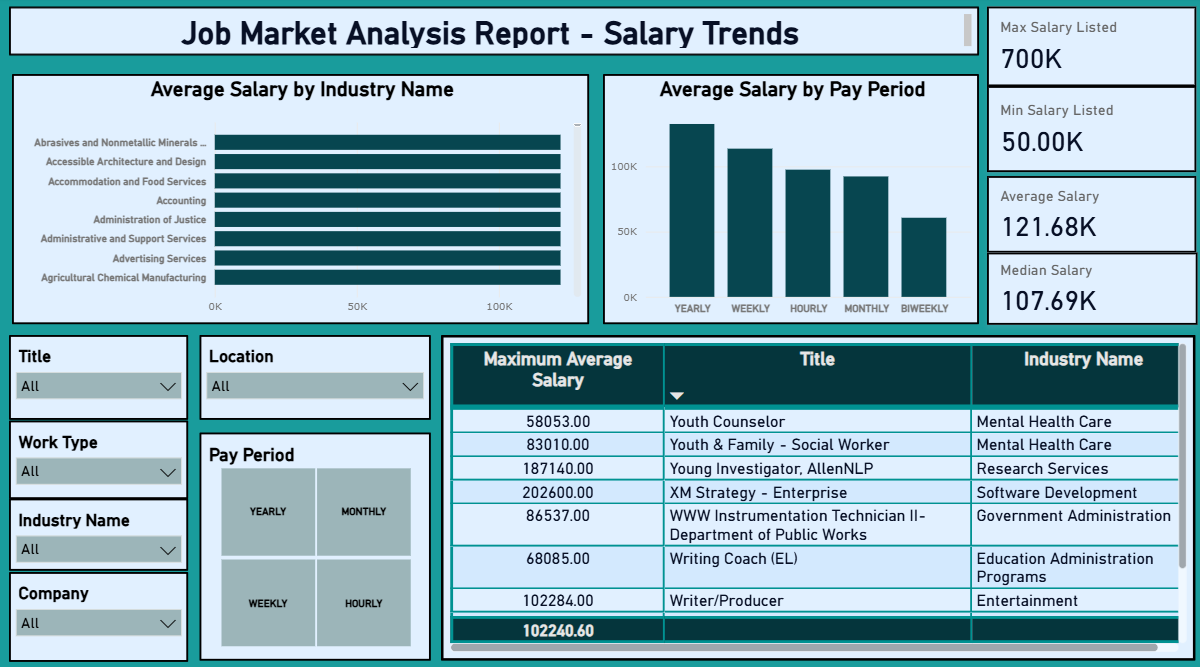

The page's visual inventory and layout, read from the dashboard file:
{"tool":"powerbi","page":{"name":"Salary Trends","canvas":[1280,720],"ordinal":1},"visuals":[{"type":"textbox","box":[10,11.7,1028.3,51.7],"z":0},{"type":"cardVisual","fields":{"Data":["postings.Average Salary"]},"box":[1047.1,190.2,222.2,81.5],"z":1000},{"type":"cardVisual","fields":{"Data":["postings.Median Salary"]},"box":[1046.7,271.7,223.3,76.7],"z":2000},{"type":"cardVisual","fields":{"Data":["postings.Max Salary Listed"]},"box":[1047.1,11.2,222.2,84.7],"z":3000},{"type":"cardVisual","fields":{"Data":["postings.Min Salary Listed"]},"box":[1047.1,95.9,222.2,91.1],"z":4000},{"type":"barChart","title":"Average Salary by Industry Name","fields":{"Y":["postings.Average Salary"],"Category":["industries.industry_name"]},"box":[13.3,83.3,611.7,265],"z":5000},{"type":"clusteredColumnChart","title":"Average Salary by Pay Period","fields":{"Category":["postings.pay_period"],"Y":["postings.Average Salary"]},"box":[640,83.3,398.3,265],"z":6000},{"type":"slicer","fields":{"Values":["postings.title"]},"box":[10,360,190,90],"z":7000},{"type":"slicer","fields":{"Values":["postings.location"]},"box":[211.7,360,245,90],"z":8000},{"type":"slicer","fields":{"Values":["postings.formatted_work_type"]},"box":[10,450,190,83.3],"z":9000},{"type":"slicer","fields":{"Values":["postings.company_name"]},"box":[10,610,190,95],"z":10000},{"type":"slicer","fields":{"Values":["postings.pay_period"]},"box":[211.7,463.3,245,241.7],"z":11000},{"type":"tableEx","fields":{"Values":["Avg(postings.max_salary)","postings.title","industries.industry_name"]},"box":[468.3,360,800,345],"z":12000},{"type":"slicer","fields":{"Values":["industries.industry_name"]},"box":[10,533.3,190,76.7],"z":13000}]}

Visuals, with their boxes in screenshot pixels (x1, y1, x2, y2), scaled from the page's 1280x720 canvas onto the 1200x667 screenshot:
textbox: {"x1": 9, "y1": 11, "x2": 973, "y2": 59}
cardVisual - postings.Average Salary: {"x1": 982, "y1": 176, "x2": 1190, "y2": 252}
cardVisual - postings.Median Salary: {"x1": 981, "y1": 252, "x2": 1191, "y2": 323}
cardVisual - postings.Max Salary Listed: {"x1": 982, "y1": 10, "x2": 1190, "y2": 89}
cardVisual - postings.Min Salary Listed: {"x1": 982, "y1": 89, "x2": 1190, "y2": 173}
"Average Salary by Industry Name" barChart: {"x1": 12, "y1": 77, "x2": 586, "y2": 323}
"Average Salary by Pay Period" clusteredColumnChart: {"x1": 600, "y1": 77, "x2": 973, "y2": 323}
slicer - postings.title: {"x1": 9, "y1": 334, "x2": 188, "y2": 417}
slicer - postings.location: {"x1": 198, "y1": 334, "x2": 428, "y2": 417}
slicer - postings.formatted_work_type: {"x1": 9, "y1": 417, "x2": 188, "y2": 494}
slicer - postings.company_name: {"x1": 9, "y1": 565, "x2": 188, "y2": 653}
slicer - postings.pay_period: {"x1": 198, "y1": 429, "x2": 428, "y2": 653}
tableEx - Avg(postings.max_salary) x postings.title: {"x1": 439, "y1": 334, "x2": 1189, "y2": 653}
slicer - industries.industry_name: {"x1": 9, "y1": 494, "x2": 188, "y2": 565}
